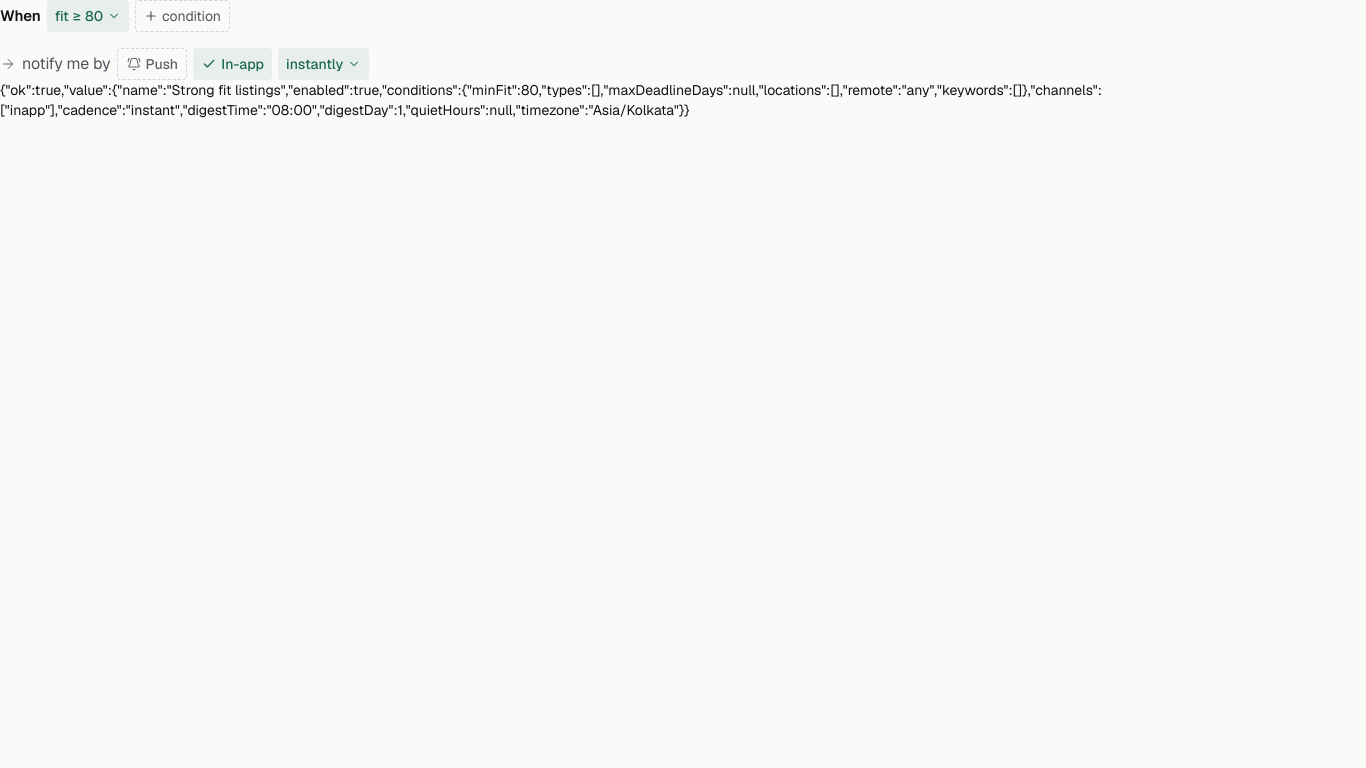
Test case: SentenceBuilder → alertRuleInputSchema › switches to a daily digest with a time
The image size is (1366, 768).
Click the button with test id "alerts-cadence" at point(324, 64), box [278,48,369,80]
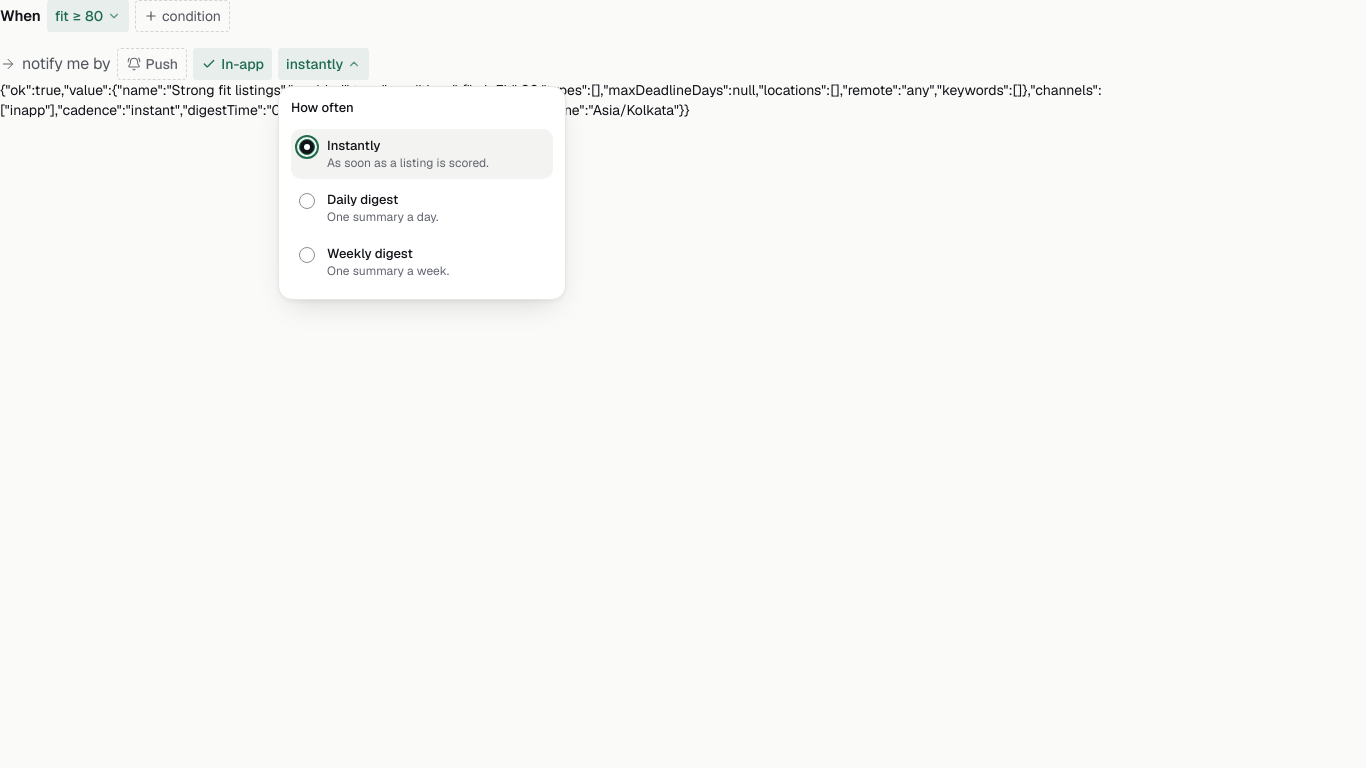
Click the radio button named "Daily digest" next to "Daily digest" at point(307, 201), box [299,193,315,209]
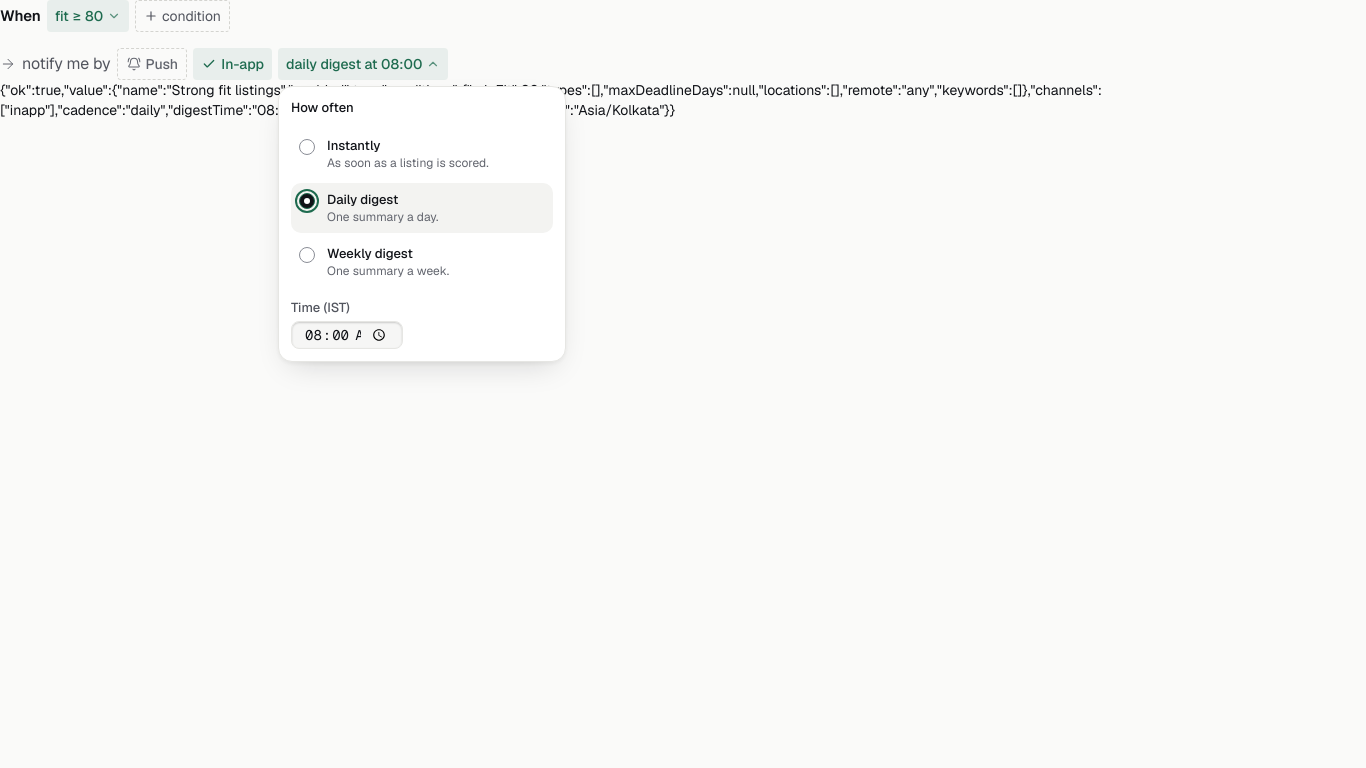
Result: the button with test id "alerts-cadence" reads "daily digest at 08:00" at [278,48,448,80]
